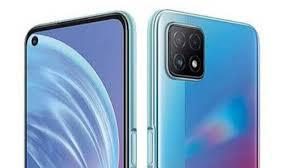Smartphone: (147, 11, 258, 168), (26, 15, 138, 168)
